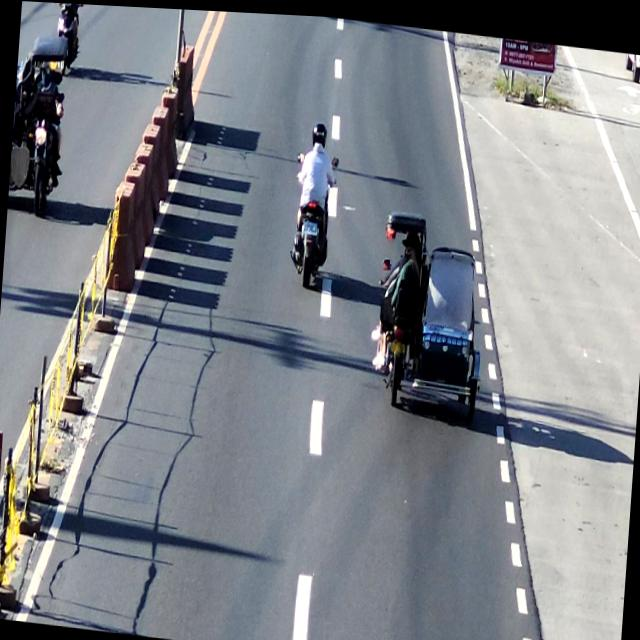Motorcycle: (284, 117, 342, 295)
Tricycle: (372, 204, 494, 425)
